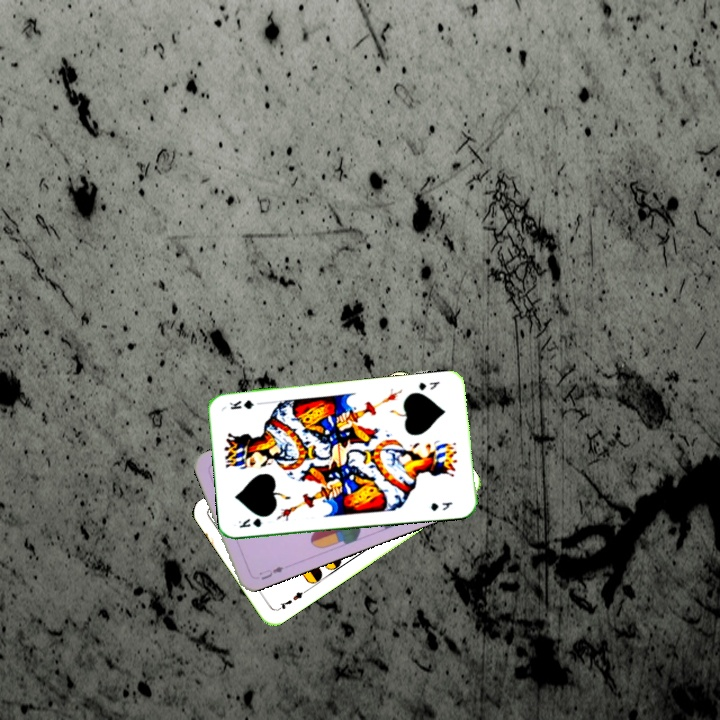E7: (273, 586, 309, 613)
EU: (255, 562, 286, 582)
GK: (234, 514, 264, 530), (415, 377, 442, 393)
